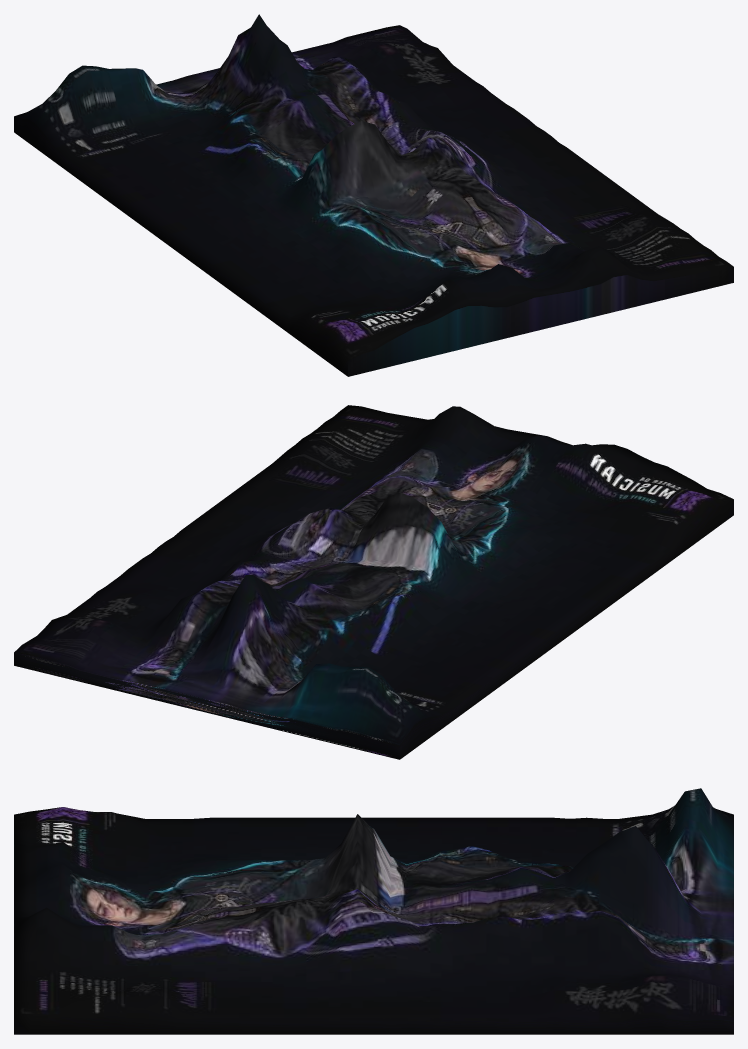
The model's file is CAREER_04_Outfit_07_Casual.glb.
3 renders of one model, top to bottom at view 1: azimuth 30°, elevation 25°; view 2: azimuth 150°, elevation 25°; view 3: azimuth 270°, elevation 25°, orthographic. The views are drawn at different scales.
Parts seen in each view (by area): view 1: CAREER_04_Outfit_07_Casual; view 2: CAREER_04_Outfit_07_Casual; view 3: CAREER_04_Outfit_07_Casual.
Part boxes in pixels (x1,y1,x2,y2): CAREER_04_Outfit_07_Casual: [14, 14, 733, 376]; CAREER_04_Outfit_07_Casual: [14, 405, 733, 759]; CAREER_04_Outfit_07_Casual: [14, 788, 733, 1034].
Bounding box in the file's own units: 2 × 0.51 × 3.
1 material, 1 textured.
